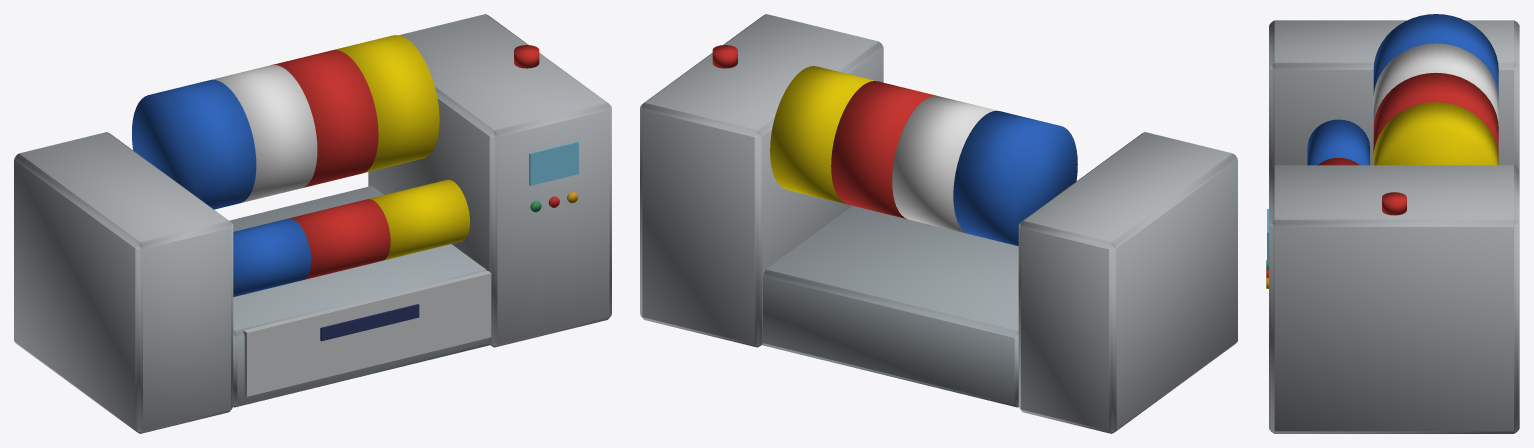
File: m_inkproofer.glb
The picture shows the model from 3 angles, left to right: view 1: azimuth 30°, elevation 25°; view 2: azimuth 150°, elevation 25°; view 3: azimuth 270°, elevation 25°; orthographic projection.
Visible parts, largest first — view 1: m_inkproofer; view 2: m_inkproofer; view 3: m_inkproofer.
Boxes of the visible parts, x1=… form: m_inkproofer: x1=14, y1=14, x2=611, y2=433; m_inkproofer: x1=640, y1=14, x2=1237, y2=433; m_inkproofer: x1=1266, y1=14, x2=1519, y2=433.
Size of the model in its own units: 0.78 by 0.39 by 0.364.
